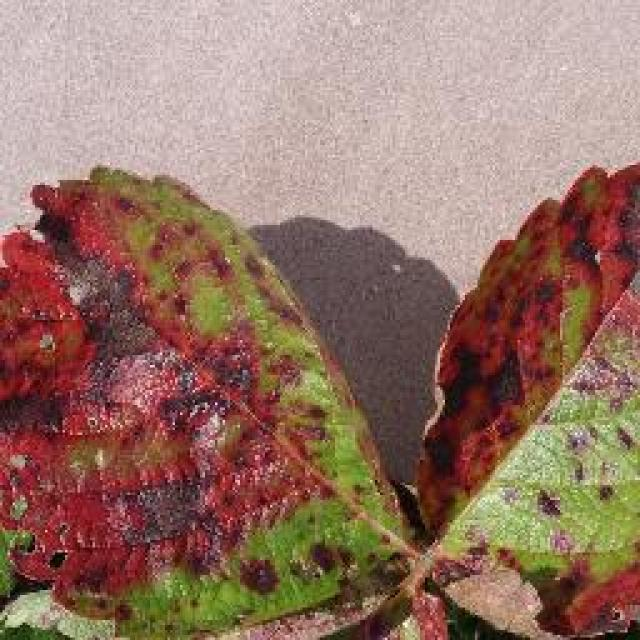Strawberry leaf scorch: (19, 145, 638, 583)
